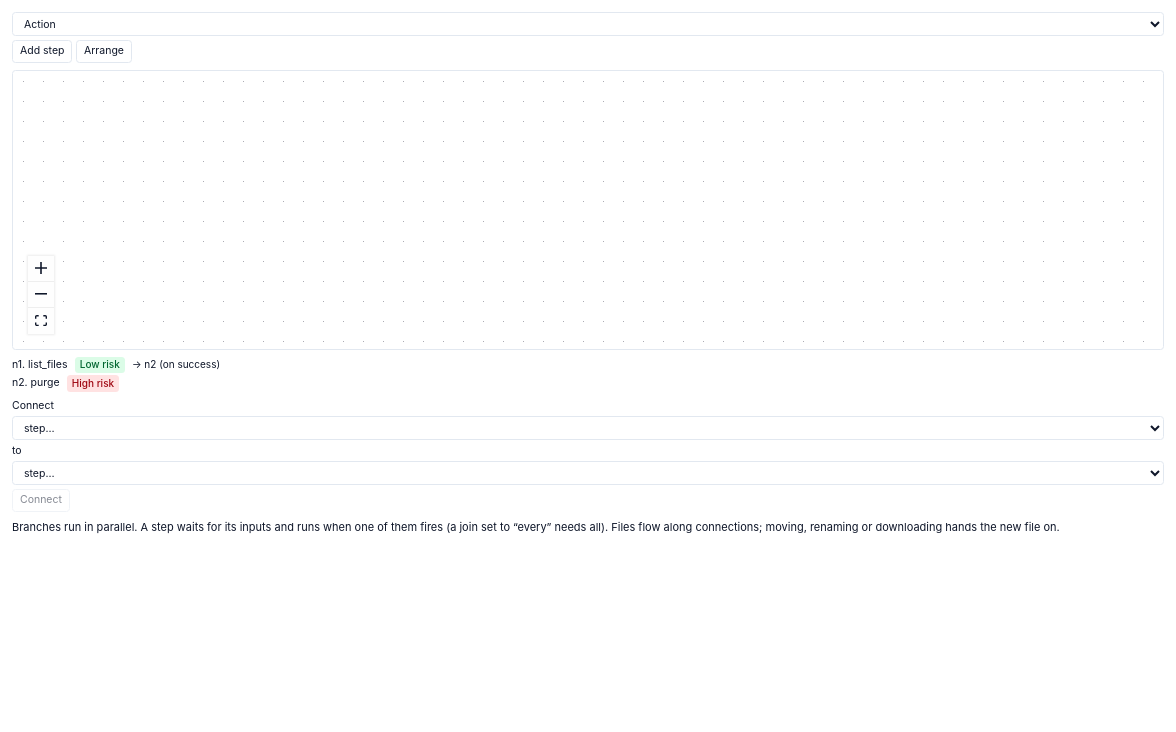
Test: WorkflowBuilder results and risk › badges each step with its risk and names a step's result along the edges
# The second step sees the first step's result name.
Click the button with aria-label "Step n2:" at [36, 384], box [12,376,60,390]
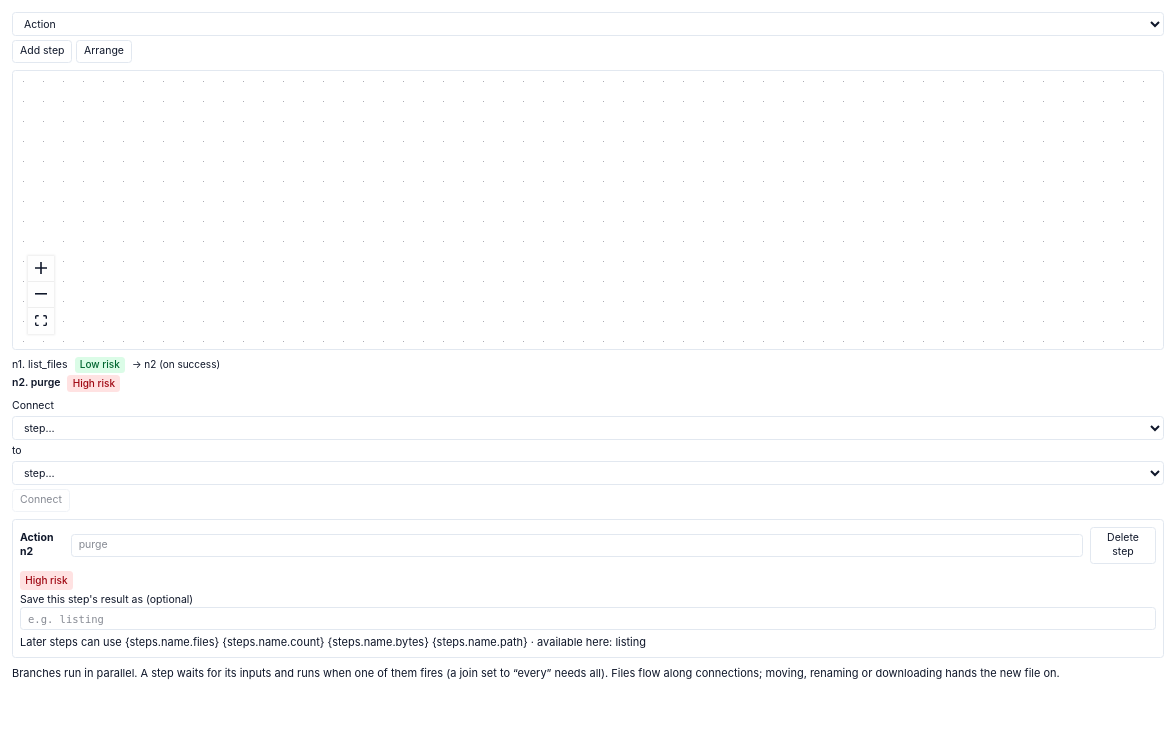
expect the element named "Selected step" shows "available here: listing": met, box [12,519,1164,658]
Type "purged" into the field named "Result name" at [588, 619], box [20,607,1156,630]
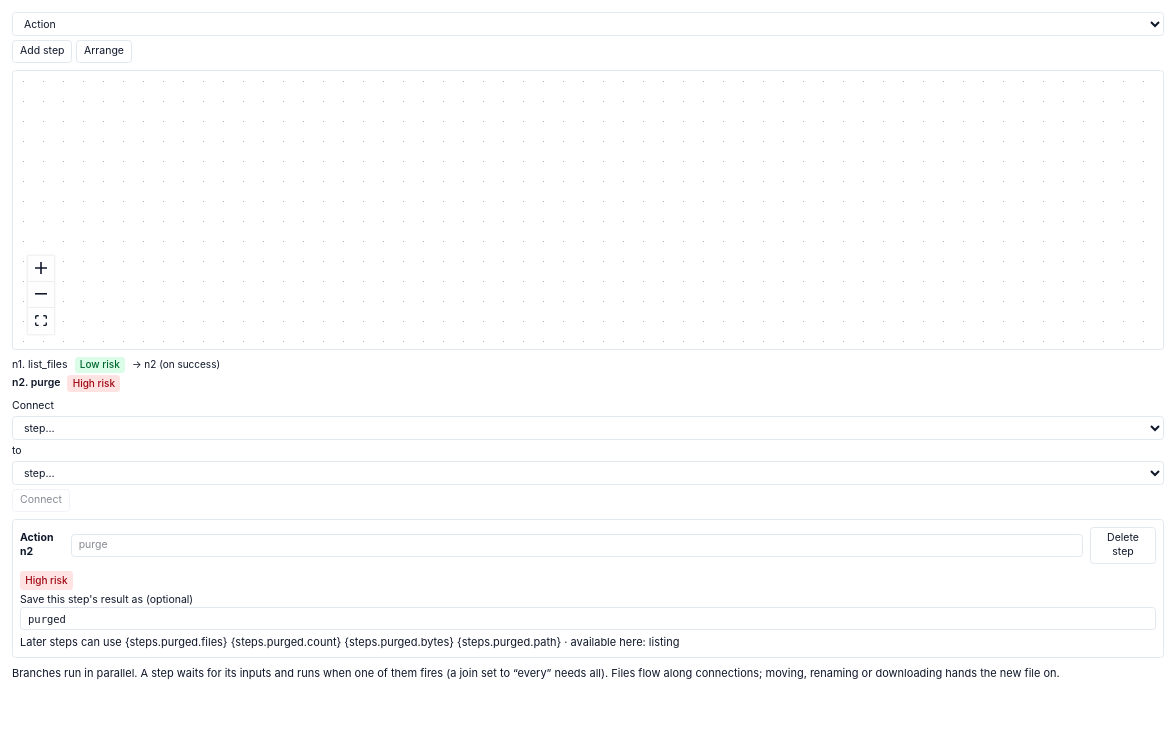
# The first step sees none (nothing upstream).
Click the button with aria-label "Step n1:" at [40, 365], box [12,358,68,372]
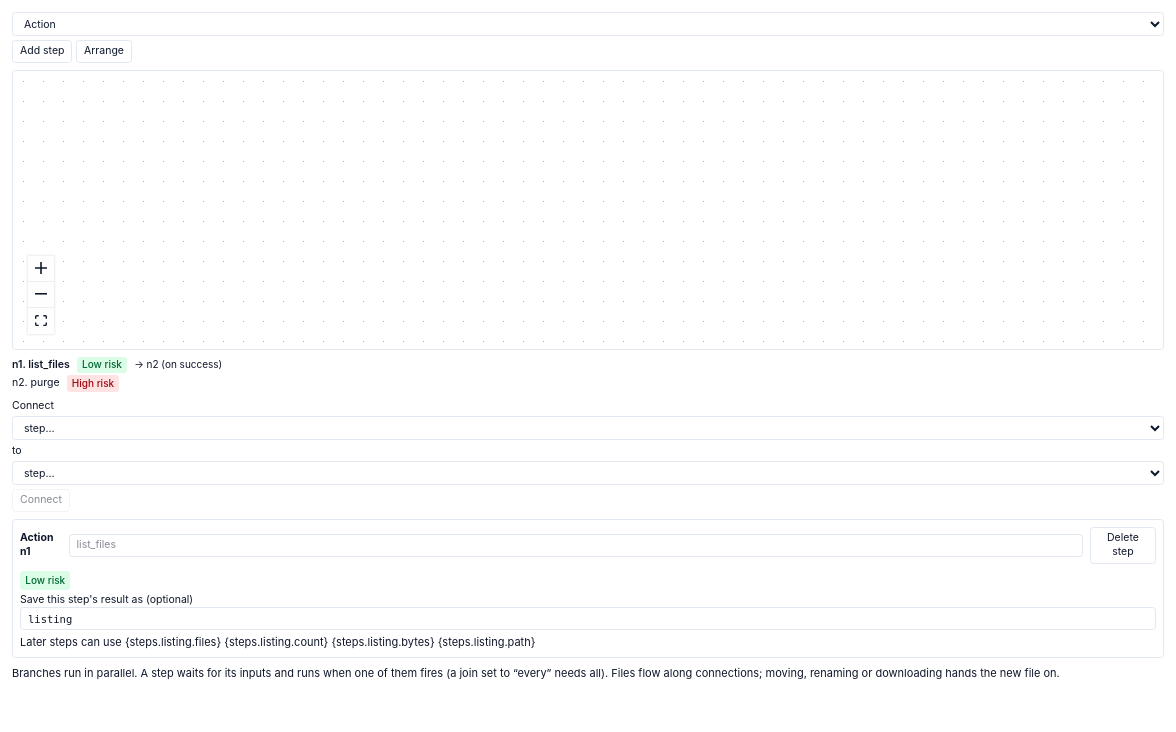
expect the element named "Selected step" no longer shows "available here": met, box [12,519,1164,658]
